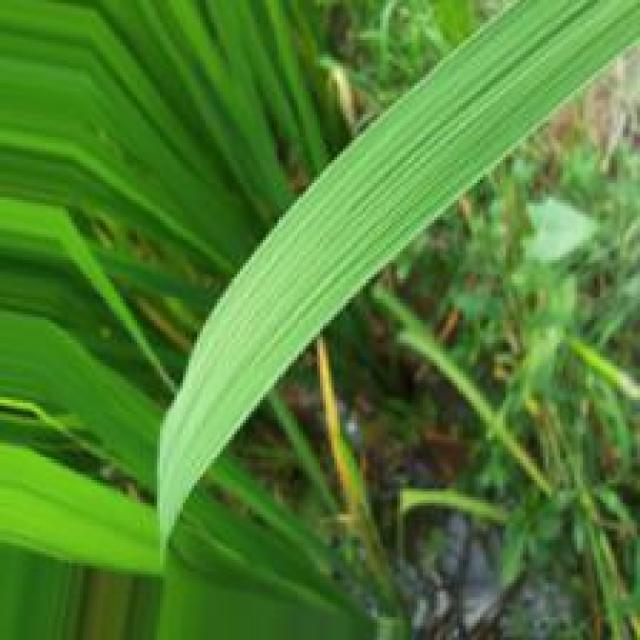HealthyLeaf: (291, 1, 638, 329)
